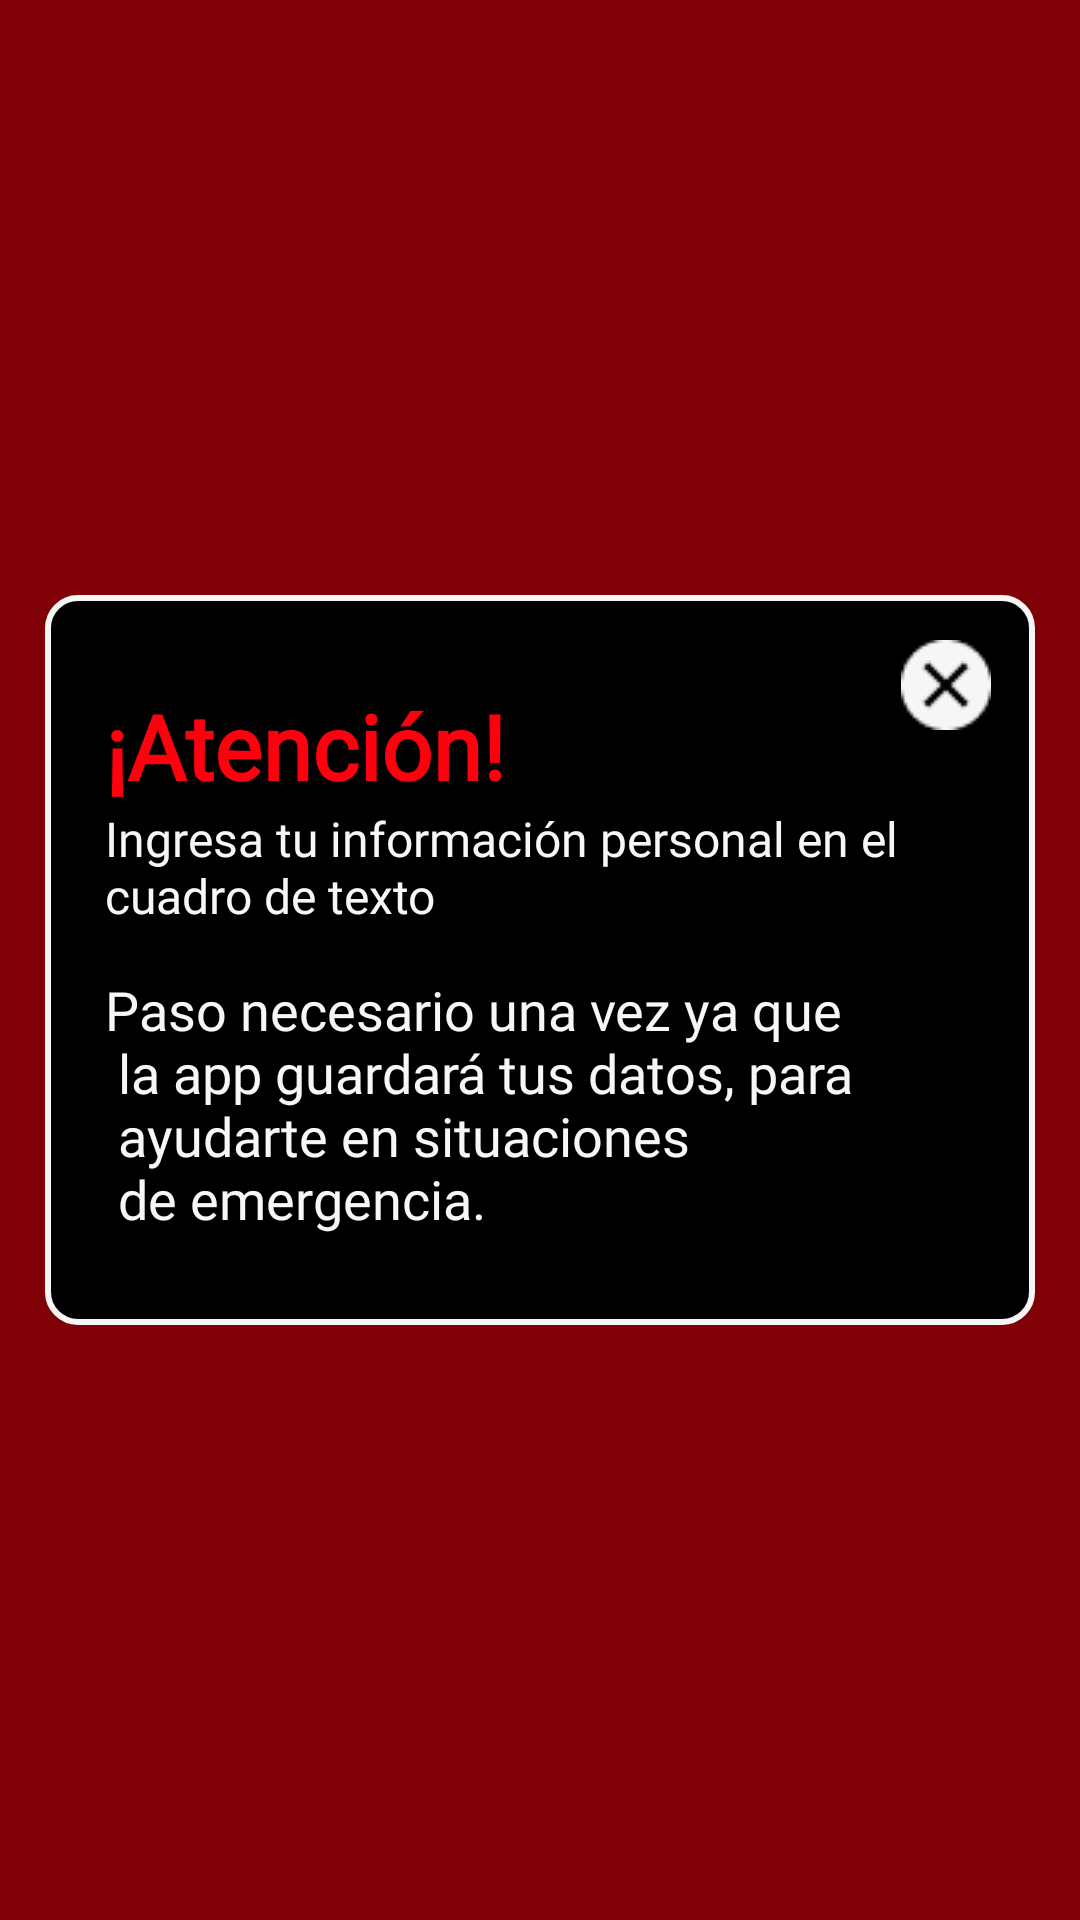

Point at icon controls on the screen. Image size 1080x1920, points as (x,y).
closebutton: (946,685)
